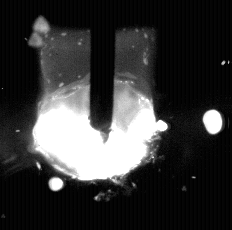arame: (91, 0, 116, 144)
poca: (33, 0, 170, 230)
